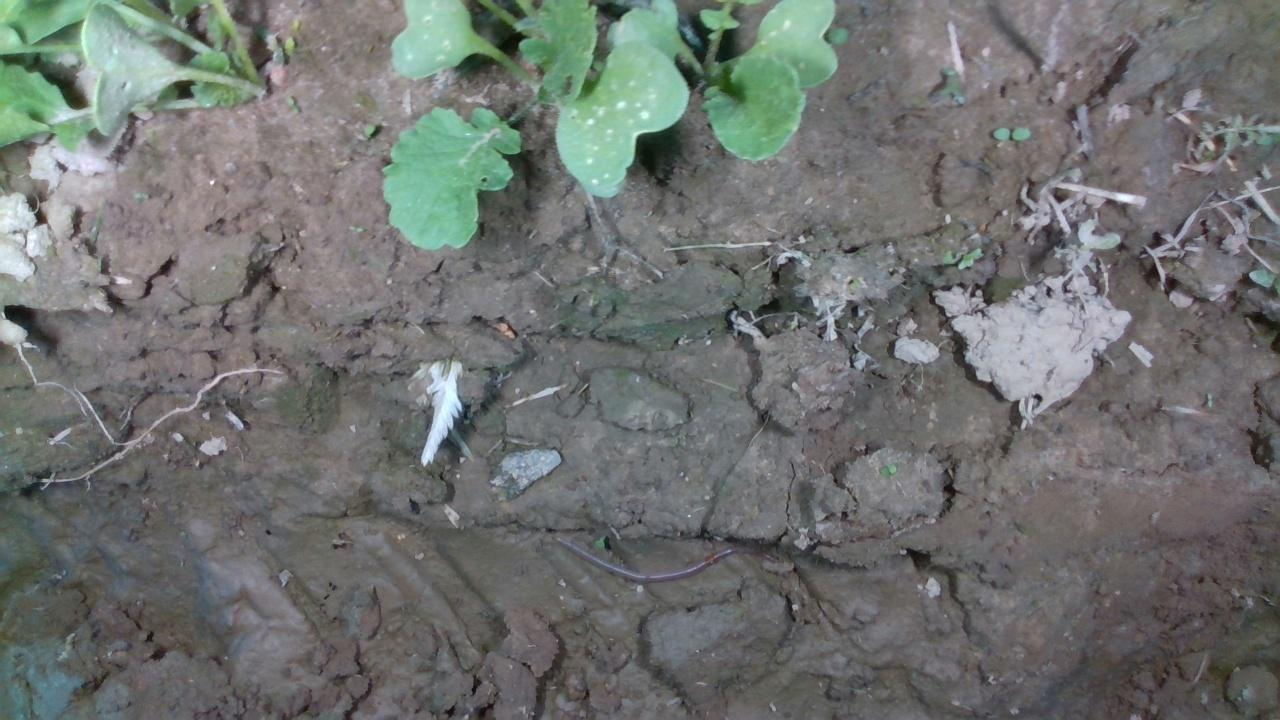weed: (990, 124, 1030, 141), (283, 92, 301, 114)
